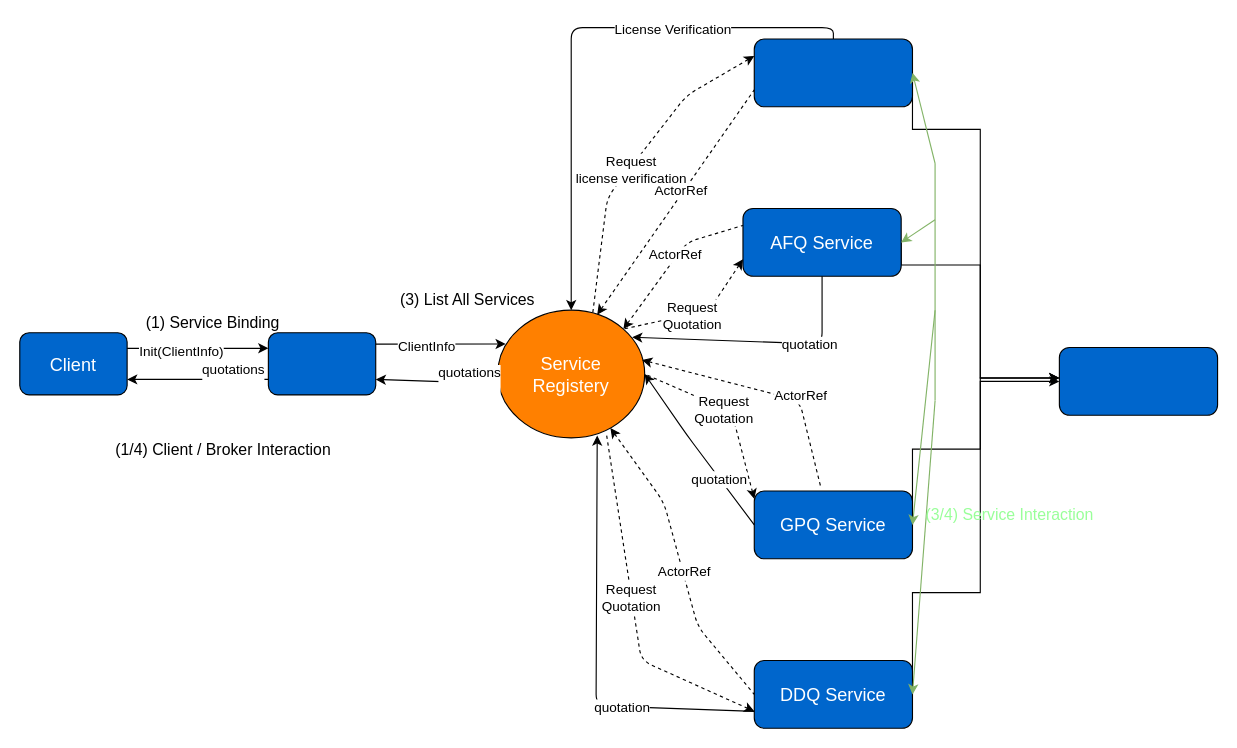
This 1237x748 diagram has some shape labels left out. The shapes that lost their labels are listed below. From the top down, each one's centre as x and y in pixels, then its label:
At point (832, 72): "Local Vetting Service".
At point (321, 363): "Broker".
At point (1138, 380): "Abstraction quotation service".
